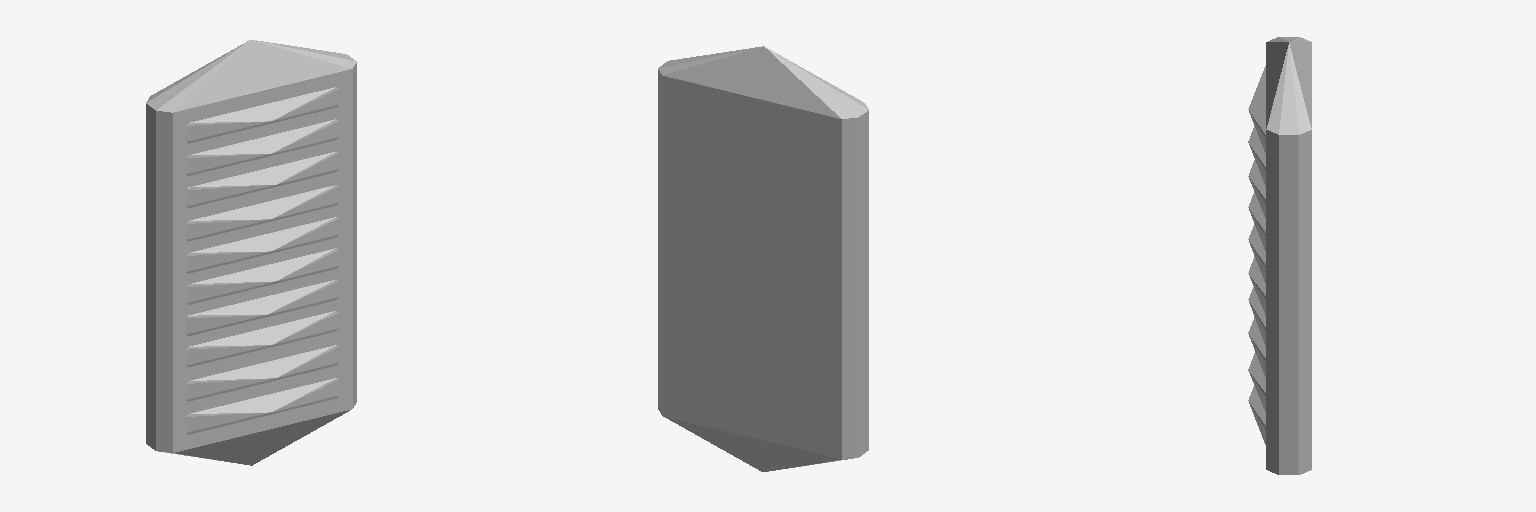
Rendered from vent.obj.
3 renders of one model, left to right at view 1: azimuth 30°, elevation 25°; view 2: azimuth 150°, elevation 25°; view 3: azimuth 270°, elevation 25°, orthographic.
Visible parts, largest first — view 1: Object.1; view 2: Object.1; view 3: Object.1.
Boxes of the visible parts, x1,y1,x2,y2 form: Object.1: [146, 40, 356, 465]; Object.1: [658, 46, 868, 471]; Object.1: [1248, 37, 1311, 474].
Size of the model in its own units: 37.53 by 76.09 by 10.29.